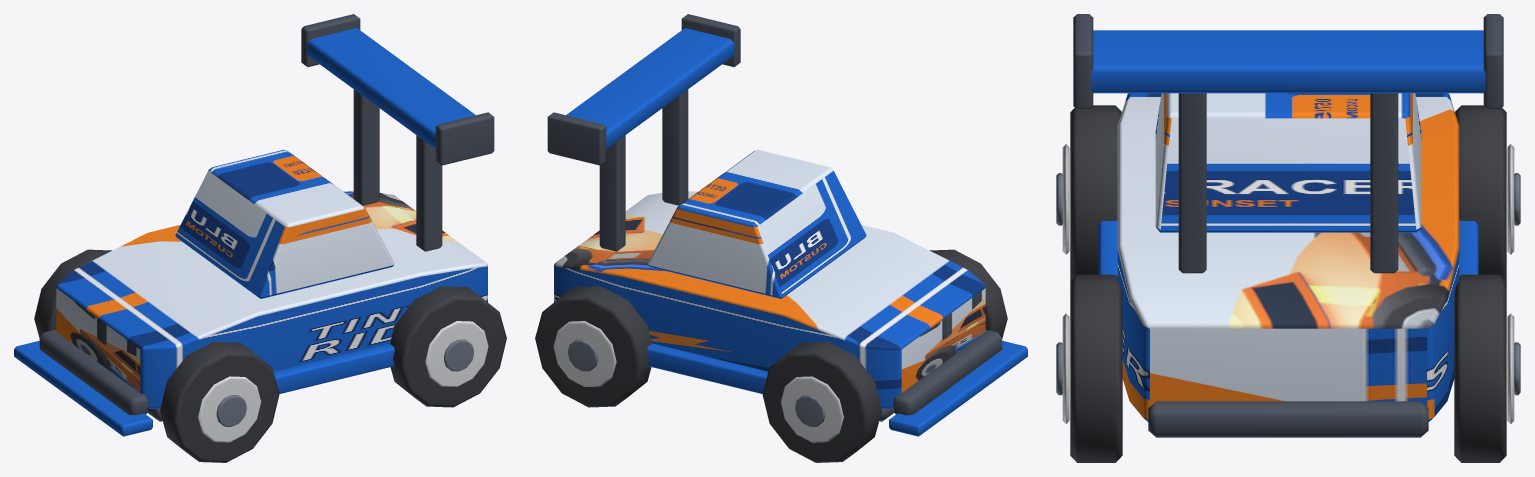
3 views of the same model, side by side, from view 1: azimuth 30°, elevation 25°; view 2: azimuth 150°, elevation 25°; view 3: azimuth 270°, elevation 25° (orthographic). The views are drawn at different scales.
Parts seen in each view (by area): view 1: TC-01_connected_shell, TC-01_cabin, Tire, rear airfoil, Tire.002, custom chin, front bumper, custom side guard, wing support.001, wing support, wing endplate, Rim (+5 smaller); view 2: TC-01_connected_shell, TC-01_cabin, Tire.001, rear airfoil, Tire.003, custom chin, front bumper, custom side guard.001, wing support, wing support.001, wing endplate.001, Rim.001 (+5 smaller); view 3: TC-01_connected_shell, TC-01_cabin, rear airfoil, rear bumper, Tire.002, Tire.003, Tire, Tire.001, wing support, wing support.001, wing endplate, wing endplate.001 (+6 smaller).
Part boxes in pixels (x1,y1,x2,y2): TC-01_connected_shell: (56, 191, 487, 408); TC-01_cabin: (175, 149, 394, 298); Tire: (160, 341, 279, 462); rear airfoil: (307, 28, 475, 148); Tire.002: (390, 286, 506, 407); custom chin: (14, 341, 152, 436); front bumper: (39, 330, 148, 415); custom side guard: (273, 343, 394, 393); wing support.001: (353, 89, 379, 205); wing support: (416, 135, 442, 251); wing endplate: (435, 112, 494, 165); Rim: (198, 376, 261, 442); TC-01_connected_shell: (554, 191, 985, 408); TC-01_cabin: (647, 149, 866, 298); Tire.001: (762, 341, 881, 462); rear airfoil: (566, 28, 734, 148); Tire.003: (535, 286, 651, 407); custom chin: (889, 341, 1027, 436); front bumper: (893, 330, 1002, 415); custom side guard.001: (647, 343, 768, 393); wing support: (662, 89, 688, 205); wing support.001: (599, 135, 625, 251); wing endplate.001: (547, 112, 606, 165); Rim.001: (780, 376, 843, 442); TC-01_connected_shell: (1117, 93, 1459, 421); TC-01_cabin: (1155, 93, 1421, 232); rear airfoil: (1091, 30, 1485, 93); rear bumper: (1148, 401, 1428, 437); Tire.002: (1070, 274, 1122, 462); Tire.003: (1454, 274, 1506, 462); Tire: (1070, 105, 1121, 281); Tire.001: (1455, 105, 1506, 281); wing support: (1178, 93, 1206, 273); wing support.001: (1370, 93, 1398, 273); wing endplate: (1073, 14, 1093, 109); wing endplate.001: (1483, 14, 1503, 109).
Bounding box in the file's own units: 339 × 237 × 231.
